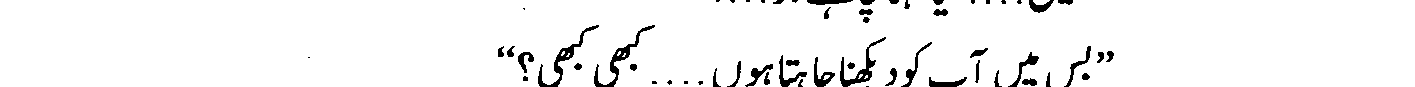bay_shosha: (1078, 53, 1093, 81)
